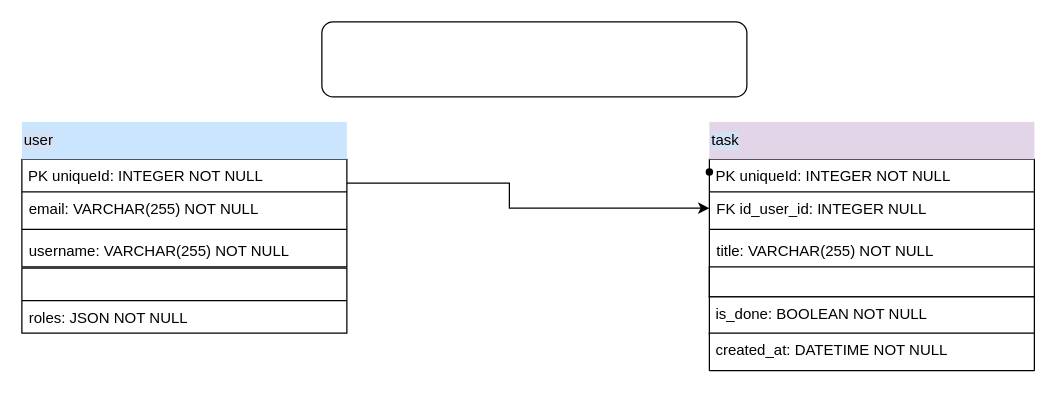
Image size: 1056x393. Some labels were removed from this diagram. Here are the shapes that lost their labels. From the top down, the centre of each, then its label:
At (x=534, y=59): "Modèle de données".
At (x=184, y=300): "password VARCHAR (255) NOT NULL".
At (x=871, y=281): "content: LONGTEXT NOT NULL".
